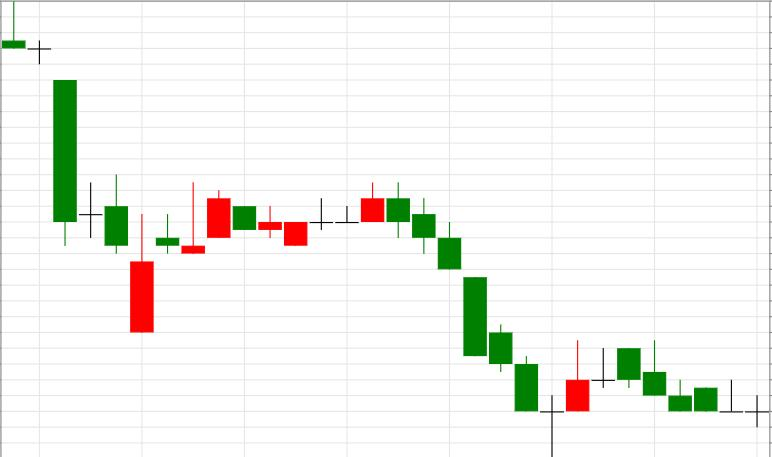morning_star_rise: (387, 183, 590, 457)
